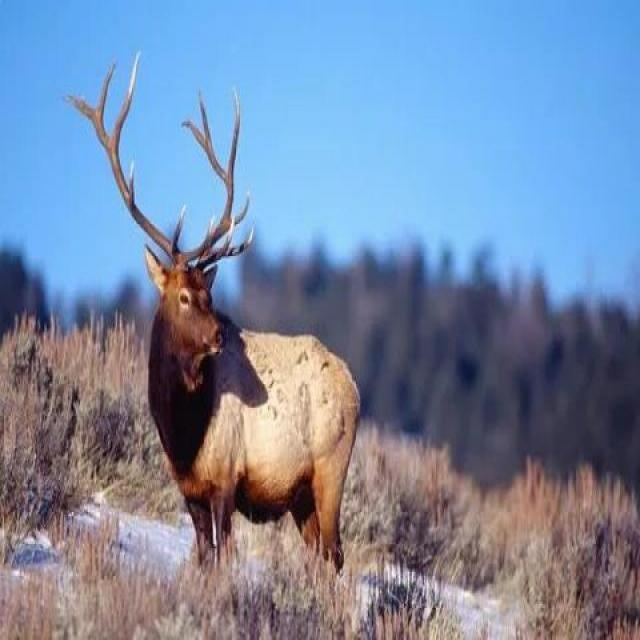deer: (95, 132, 412, 623)
